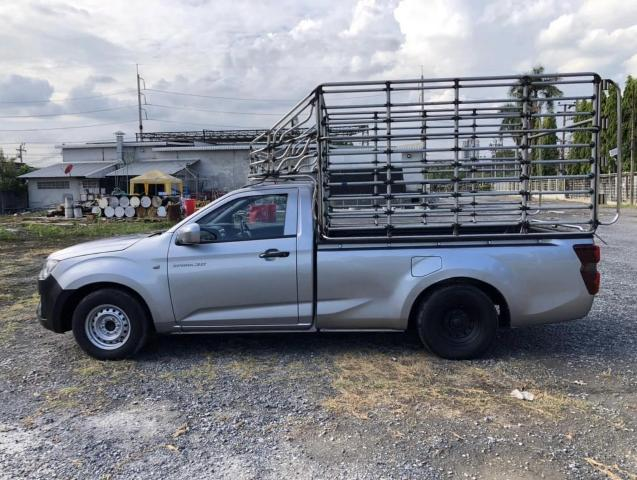pickup-truck: (36, 57, 637, 380)
